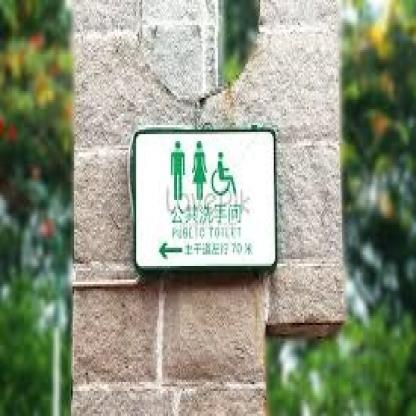toilet: (168, 135, 211, 205)
